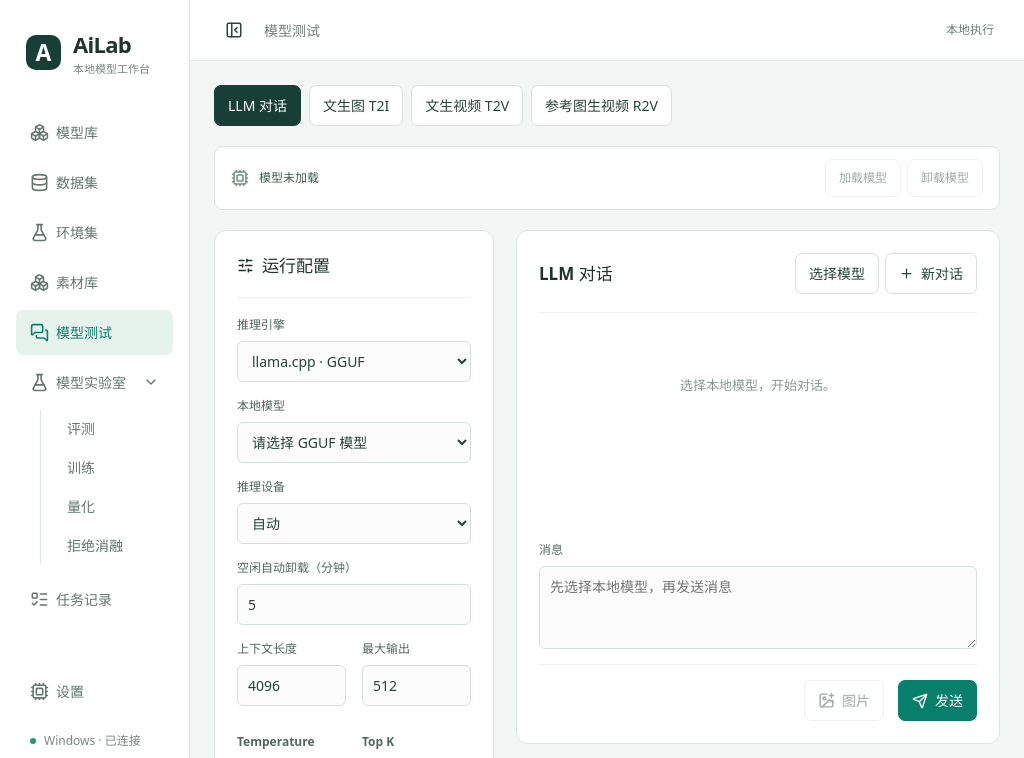
Test: Studio UI › expands laboratory and leaves reserved pages without fake execution buttons
Check: the text "Windows · 已连接" is shown, box [30,732,141,749]
Click the button "评测": (113, 428) [53,410,173,446]
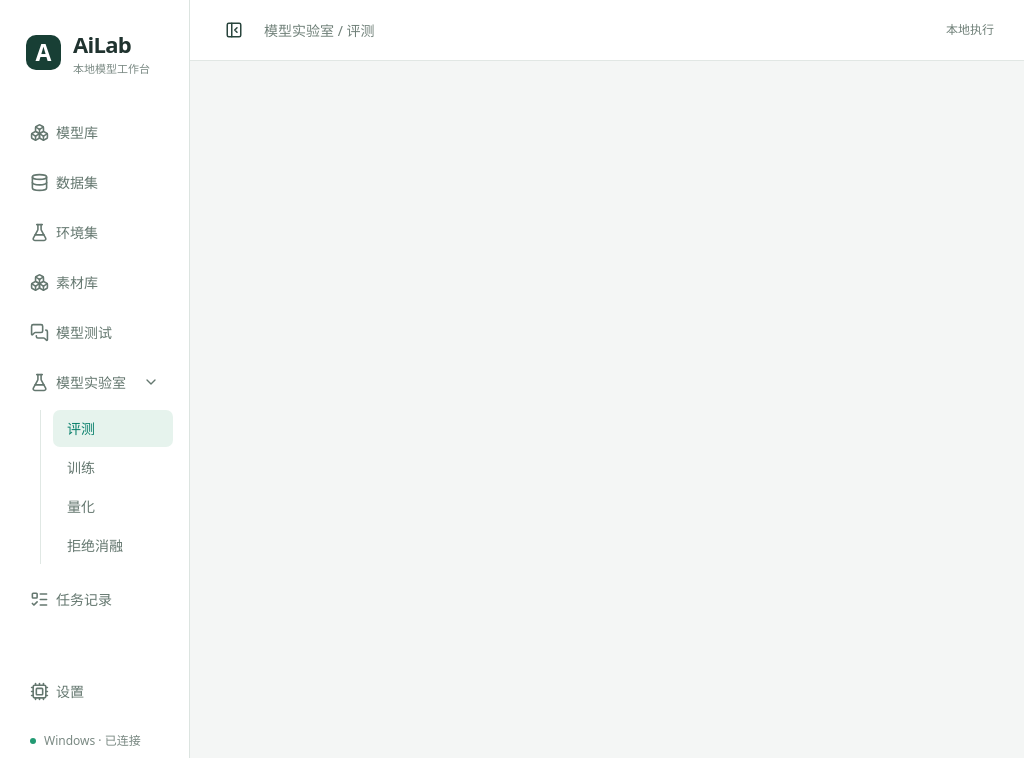
Click the button "模型实验室": (94, 382) [16,360,173,404]
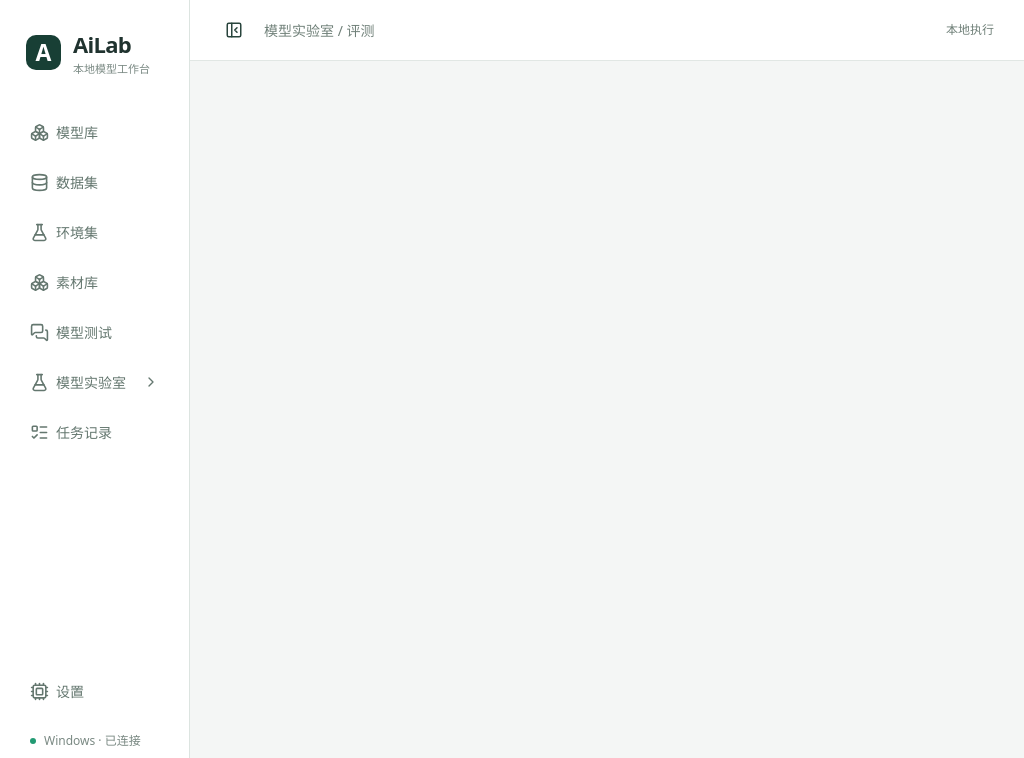
Check: the button "模型测试" is shown, box [16,310,173,354]
Check: the button "训练" is gone
